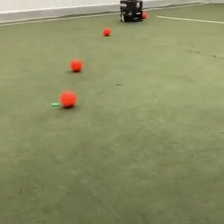ball: (58, 90, 76, 108), (69, 58, 83, 73), (102, 27, 110, 36), (142, 12, 148, 18)
robot: (119, 1, 144, 22)
